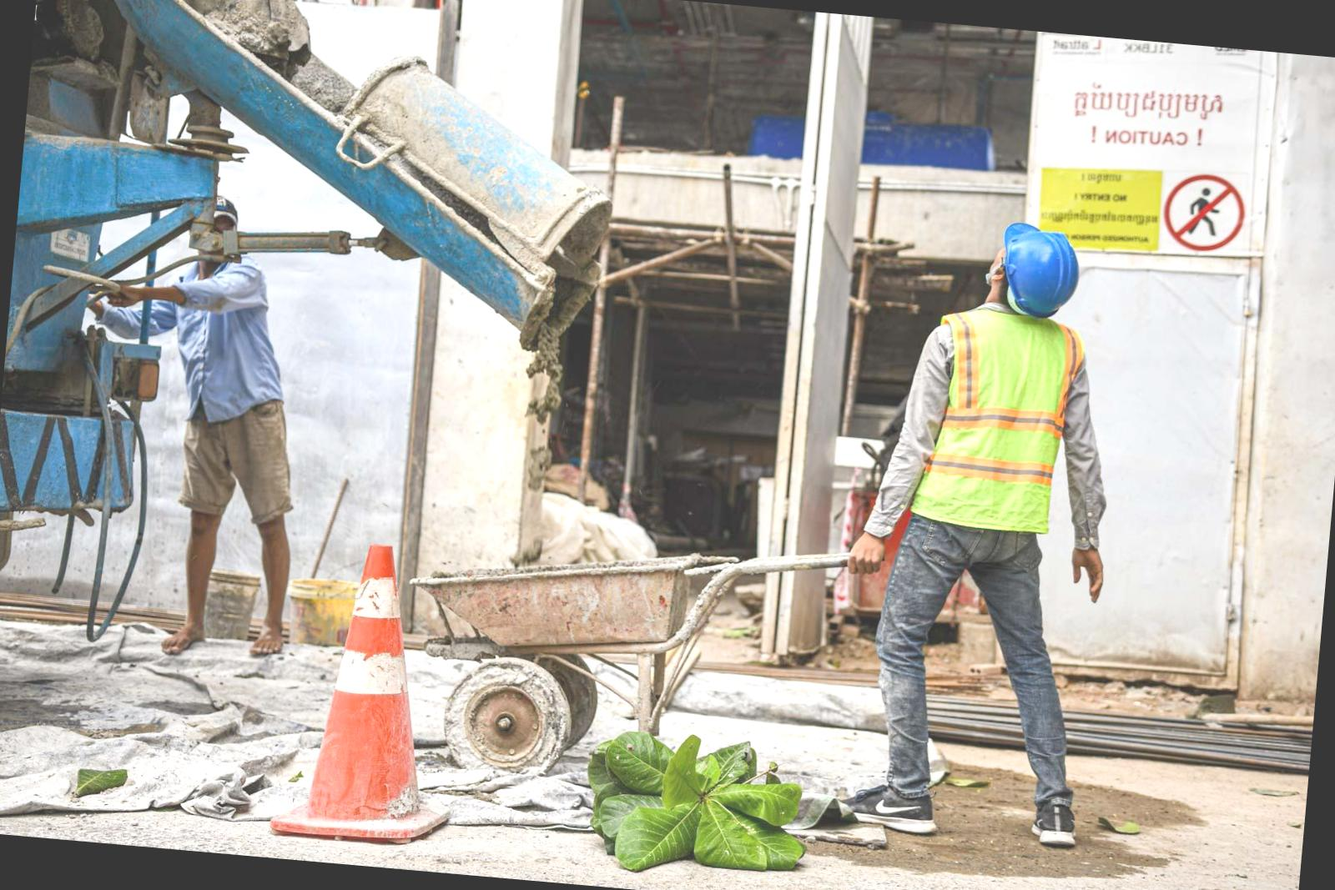helmet: (976, 216, 1095, 328)
person: (790, 192, 1171, 838)
